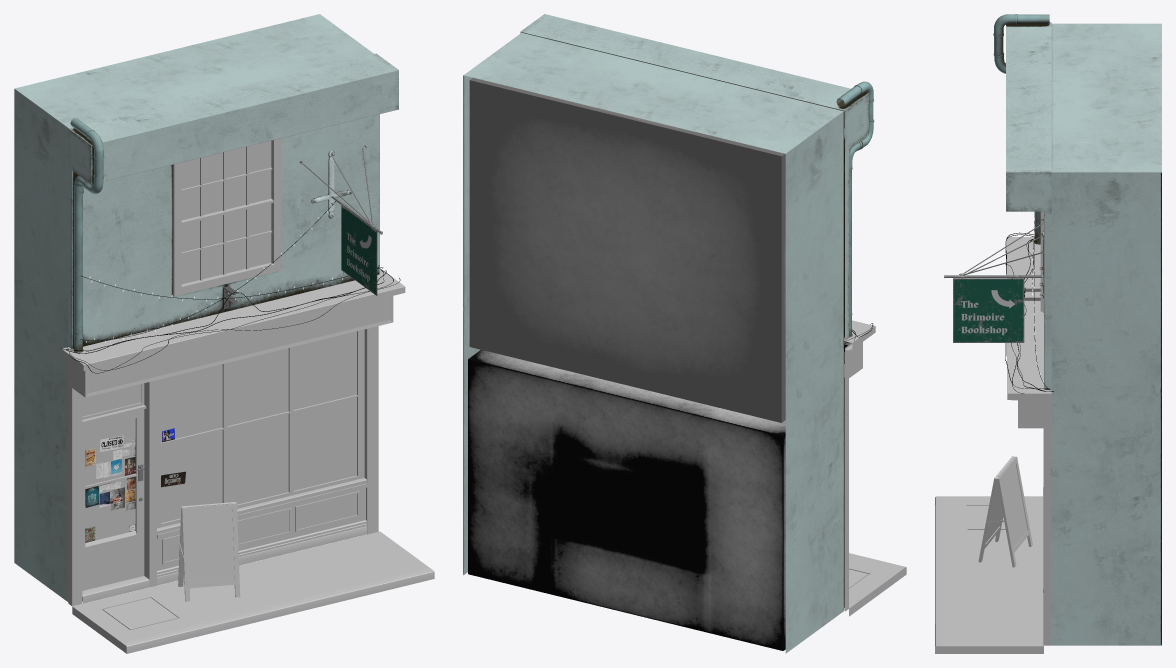
3 renders of one model, left to right at view 1: azimuth 30°, elevation 25°; view 2: azimuth 150°, elevation 25°; view 3: azimuth 270°, elevation 25°, orthographic. The views are drawn at different scales.
Visible parts, largest first — view 1: outdoor_wall, Wall1, Cornice (×2), Glass_01, Front_floor, Window (×2), Glass2, Sign_Band, Door, sidewalk_sign, Bulkhead_04, Sign (+12 smaller); view 2: interior_wall02, Indoorwall01, outdoor_wall, Cornice, Front_floor, Pipe, Pliaster_left, Wall1; view 3: outdoor_wall, Front_floor, Cornice (×2), Sign, sidewalk_sign, Pliaster_right, Wall1, Pipe, Sign_Band, electric_wire.
Part boxes in pixels (left/top/right/bottom): outdoor_wall: left=14, top=14, right=373, bottom=601; Wall1: left=68, top=114, right=379, bottom=349; Cornice (×2): left=61, top=53, right=405, bottom=371; Glass_01: left=161, top=331, right=356, bottom=522; Front_floor: left=72, top=531, right=434, bottom=653; Window (×2): left=157, top=138, right=364, bottom=528; Glass2: left=181, top=140, right=271, bottom=284; Sign_Band: left=68, top=296, right=393, bottom=397; Door: left=82, top=409, right=144, bottom=590; sidewalk_sign: left=178, top=502, right=240, bottom=601; Bulkhead_04: left=157, top=488, right=365, bottom=570; Sign: left=300, top=145, right=382, bottom=295; interior_wall02: left=469, top=77, right=785, bottom=422; Indoorwall01: left=468, top=344, right=847, bottom=650; outdoor_wall: left=463, top=32, right=844, bottom=653; Cornice: left=520, top=14, right=868, bottom=151; Front_floor: left=849, top=553, right=906, bottom=616; Pipe: left=836, top=81, right=874, bottom=337; Pliaster_left: left=844, top=377, right=848, bottom=611; Wall1: left=844, top=148, right=848, bottom=340; outdoor_wall: left=1050, top=23, right=1161, bottom=645; Front_floor: left=935, top=496, right=1043, bottom=653; Cornice (×2): left=1006, top=22, right=1051, bottom=400; Sign: left=944, top=219, right=1043, bottom=345; sidewalk_sign: left=978, top=456, right=1032, bottom=567; Pliaster_right: left=1043, top=428, right=1050, bottom=645; Wall1: left=1044, top=211, right=1051, bottom=389; Pipe: left=993, top=14, right=1049, bottom=244; Sign_Band: left=1018, top=400, right=1051, bottom=428; electric_wire: left=1005, top=232, right=1053, bottom=393.
Size of the model in its own units: 520 by 748 by 313.
